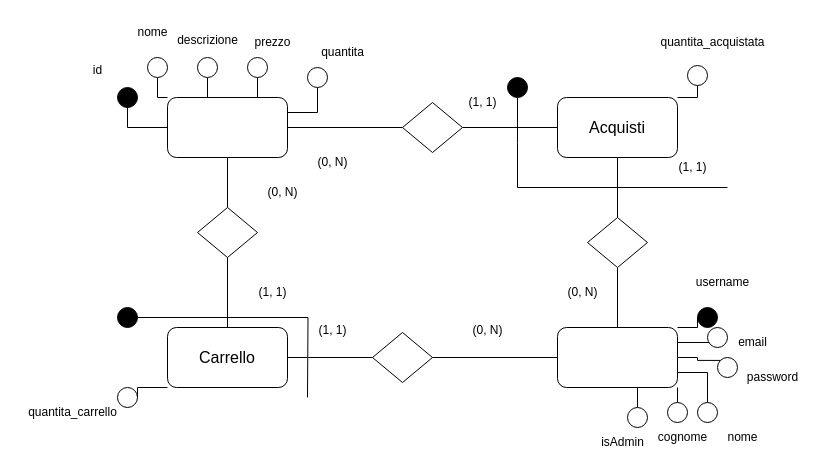
Some shapes in this 824 by 474 pixel diagram are drawn without their labels. Each missing label, with the centre of its shape:
"Prodotto" belongs at pixel 227 127.
"Utente" belongs at pixel 617 357.
